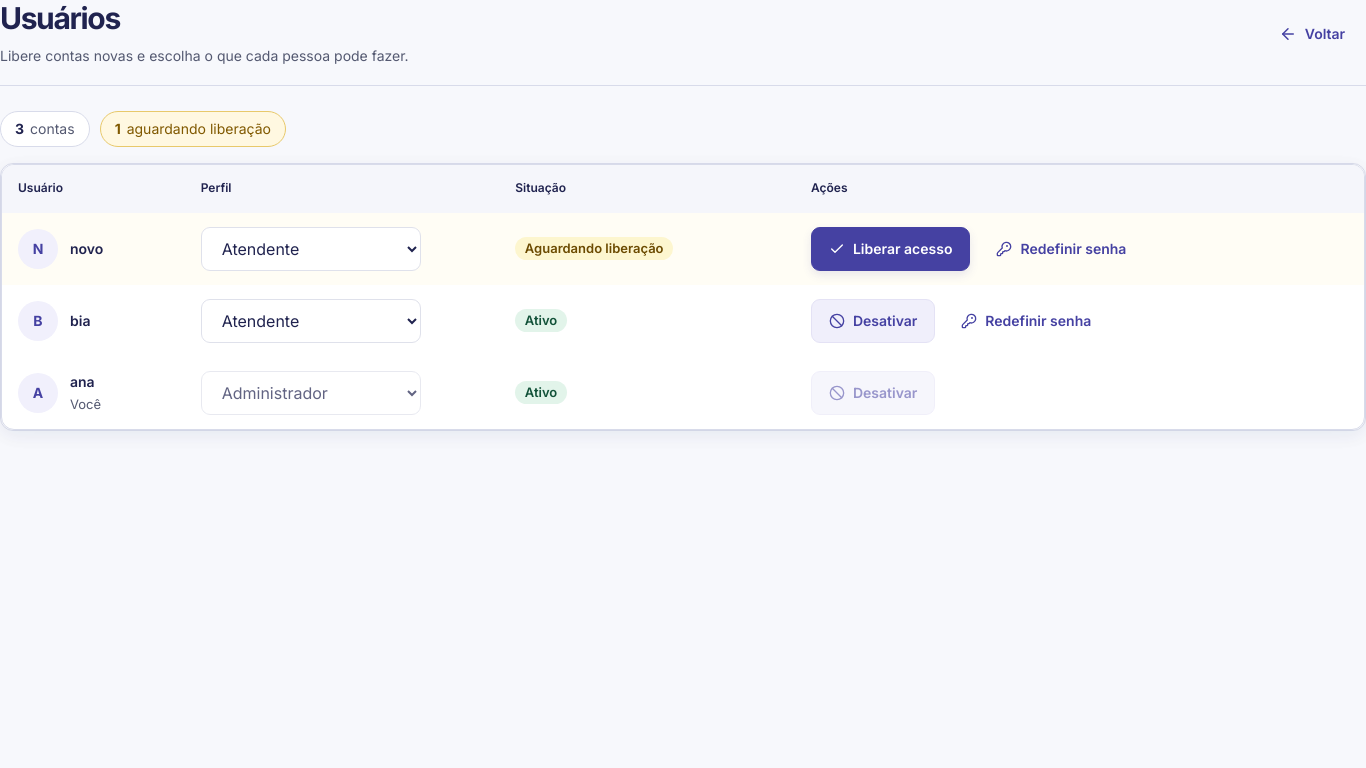
Test case: Usuários › redefine a senha de outra conta em uma janela, só com senha forte
expect the dropdown named "Perfil de bia" is shown: met, box [201,299,421,343]
Click the button with aria-label "Redefinir senha de bia". click: (1026, 321)
box: [943,299,1109,343]
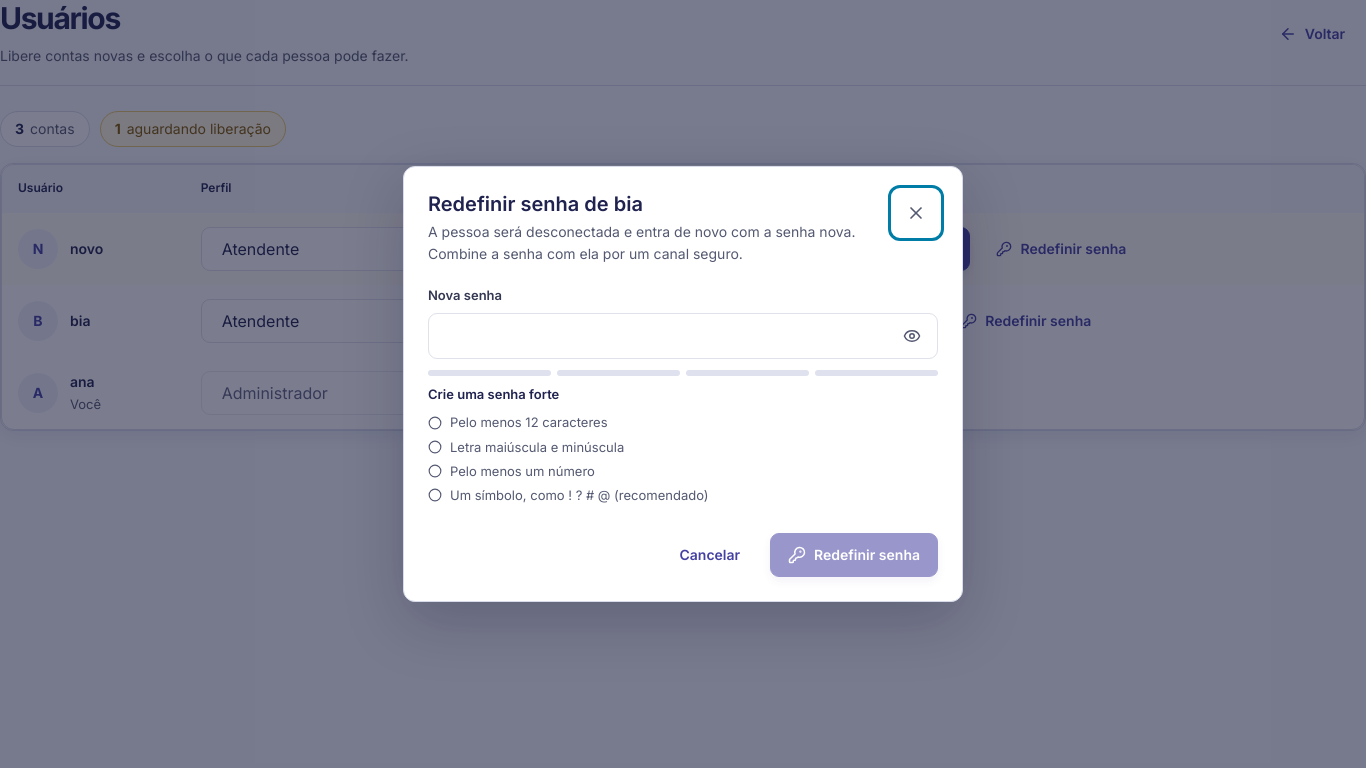
expect the button "Redefinir senha" is disabled: met, box [770,533,938,577]
Type "curta" into the password field labelled "Nova senha". click: (683, 336)
box: [428,313,938,359]
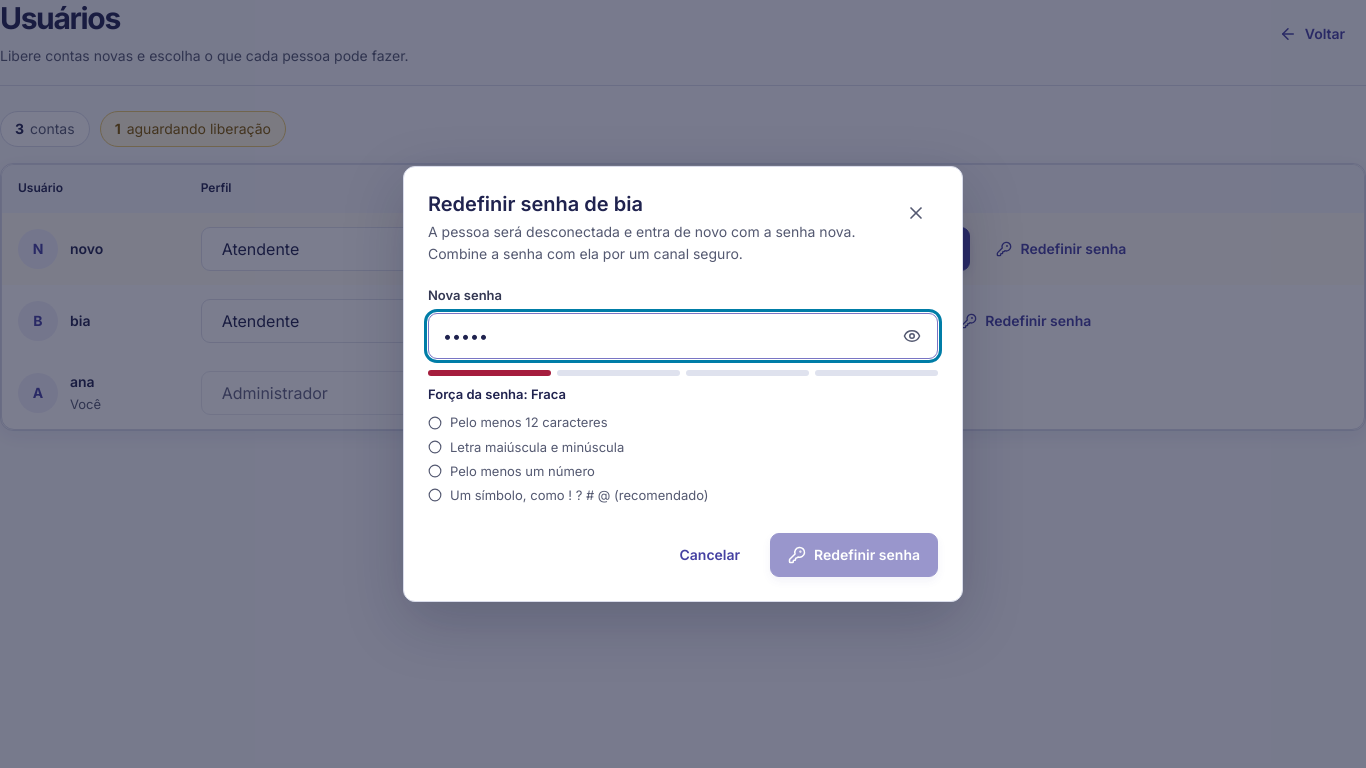
expect the button "Redefinir senha" is disabled: met, box [770,533,938,577]
Type "Senha-Redefinida-123!" into the password field labelled "Nova senha". click: (683, 336)
box: [428,313,938,359]
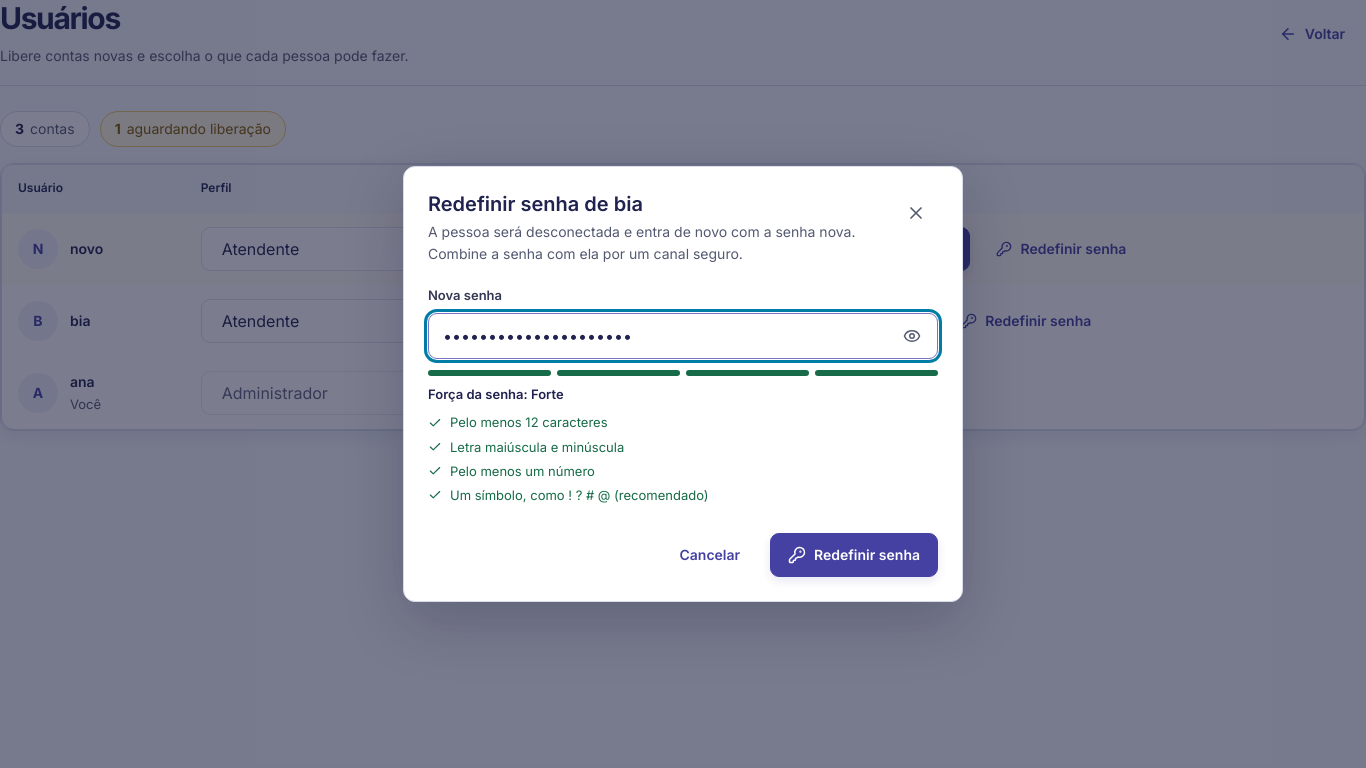
expect the button "Redefinir senha" is enabled: met
Click the button "Redefinir senha". click: (854, 555)
box: [770,533,938,577]
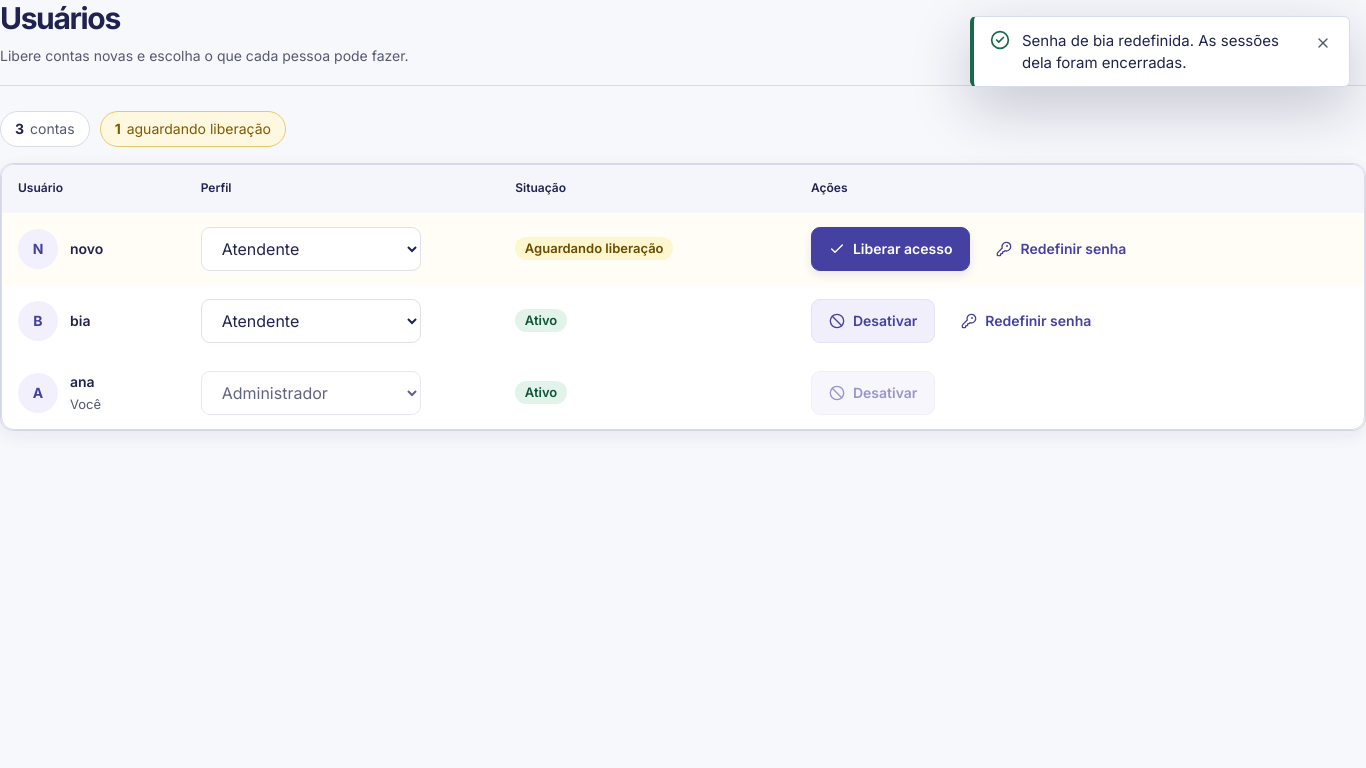
expect the text "Senha de bia redefinida. As sessões dela foram encerradas." is shown: met, box [1022,29,1297,74]
